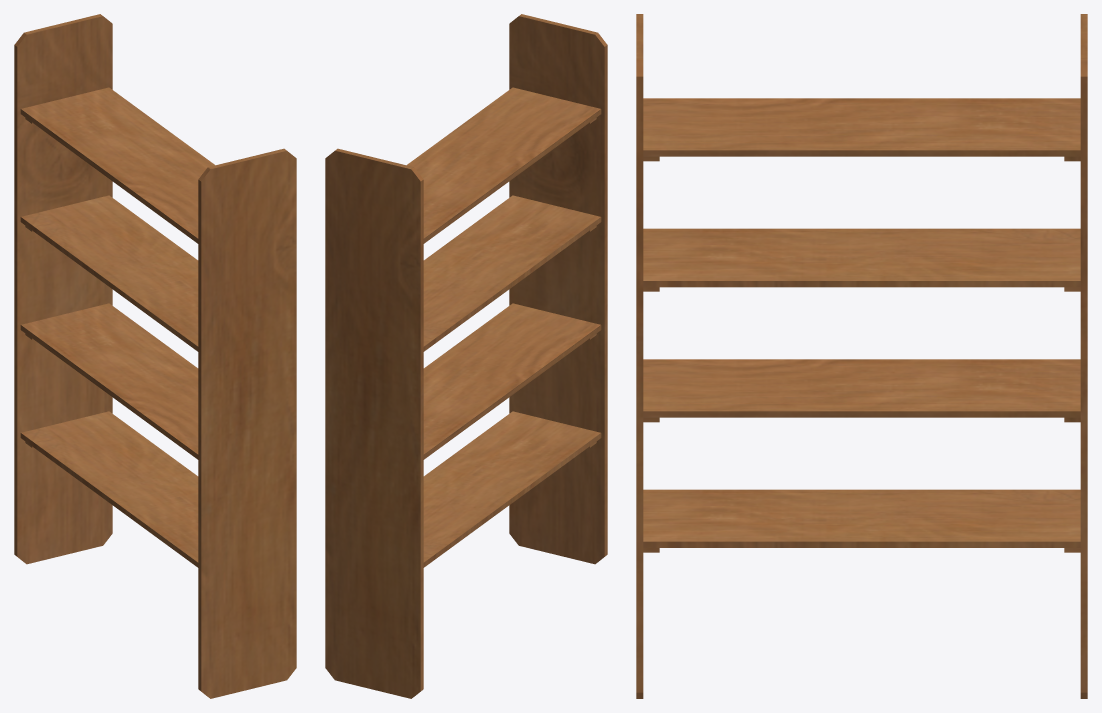
Rendered from bookcase_1.FBX.
3 views of the same model, side by side, from view 1: azimuth 30°, elevation 25°; view 2: azimuth 150°, elevation 25°; view 3: azimuth 270°, elevation 25° (orthographic). The views are drawn at different scales.
Visible parts, largest first — view 1: bookcase_1; view 2: bookcase_1; view 3: bookcase_1.
Boxes of the visible parts, x1,y1,x2,y2 form: bookcase_1: (14,14,296,698); bookcase_1: (325,14,607,698); bookcase_1: (636,14,1087,698).
Size of the model in its own units: 13.7 by 72.67 by 46.45.
